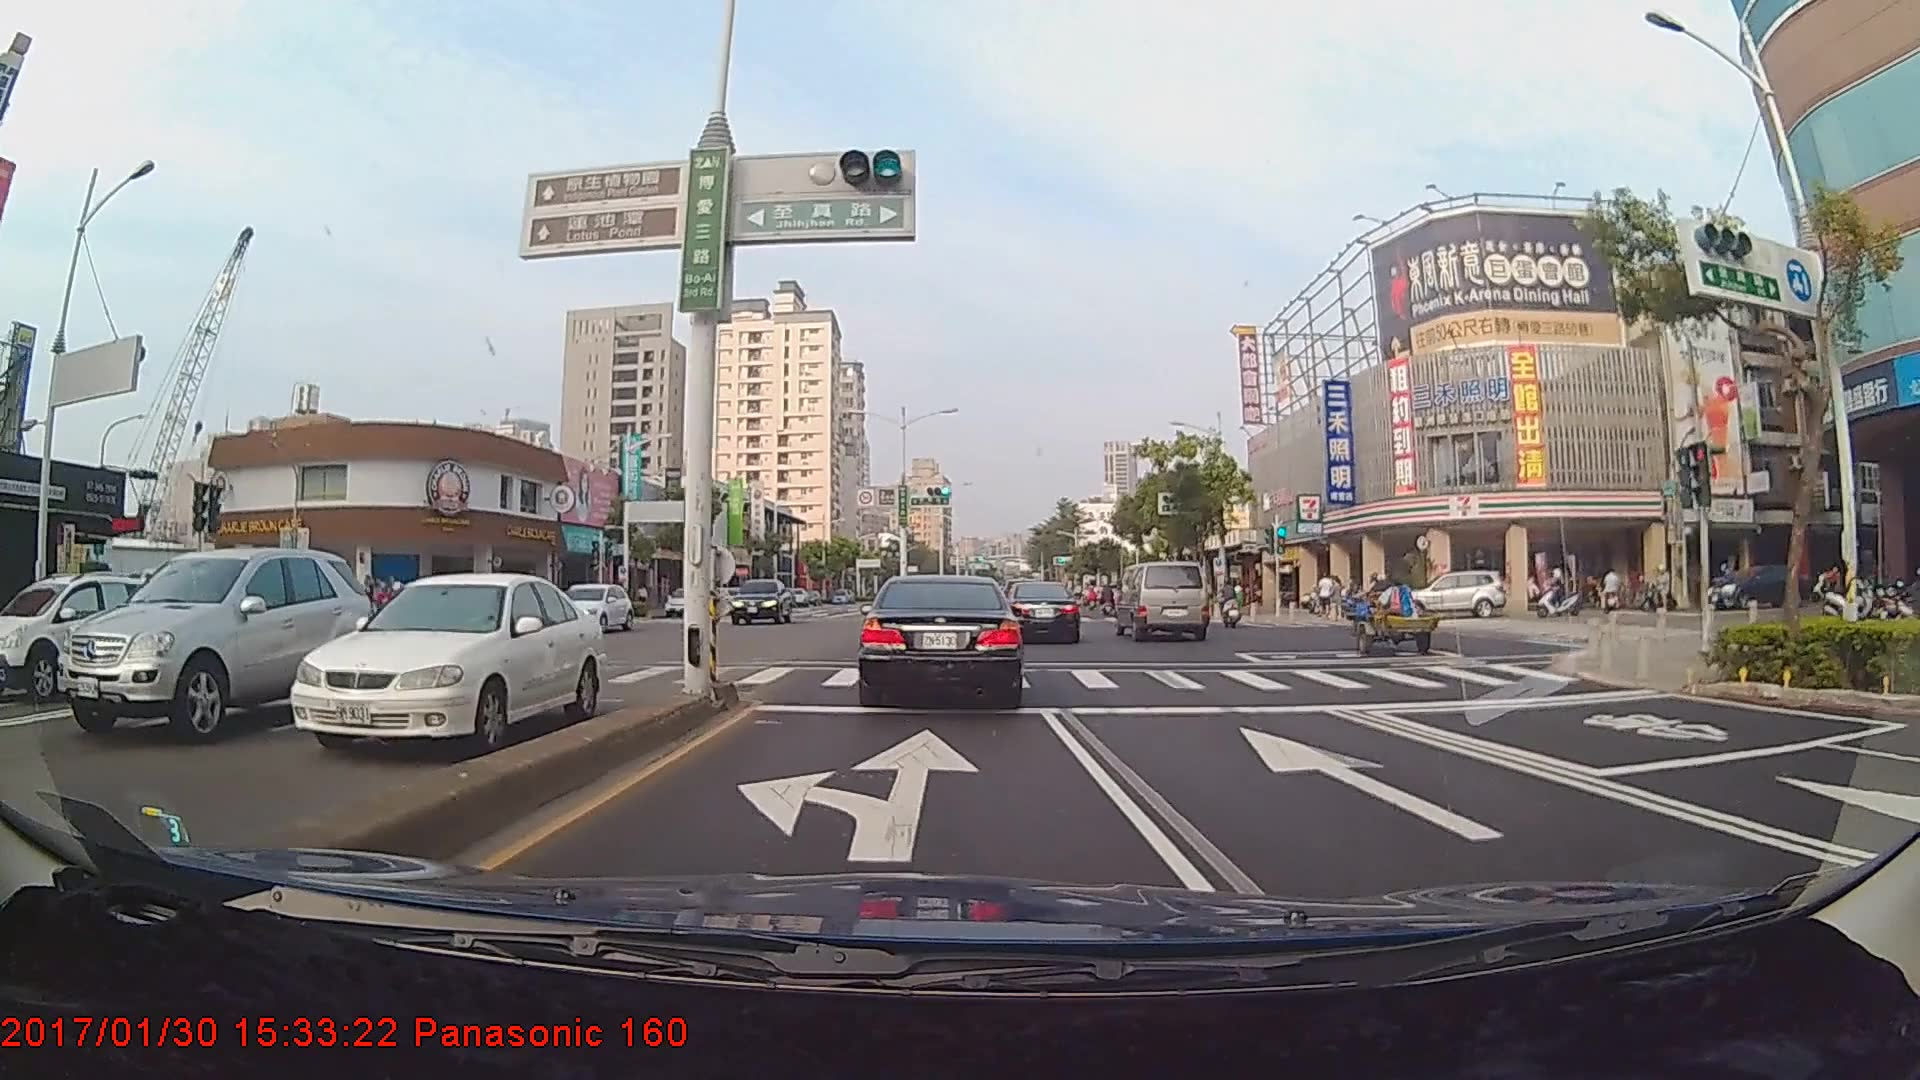pedestrian: (1316, 571, 1336, 620)
rider: (1530, 560, 1586, 621), (1212, 579, 1248, 632)
vehicle: (278, 568, 594, 757), (60, 542, 356, 741), (3, 565, 174, 705), (858, 572, 1022, 705), (1118, 561, 1209, 642), (1398, 568, 1506, 617), (1004, 580, 1080, 644), (553, 580, 631, 636), (726, 578, 793, 625), (664, 586, 703, 617)
